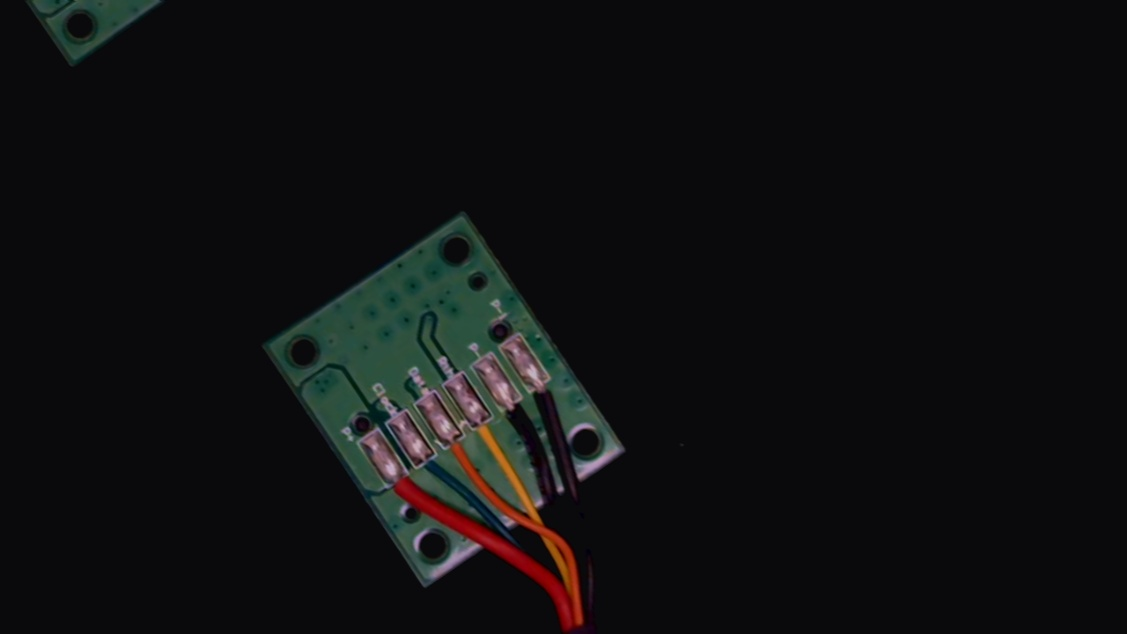Black: (490, 383, 543, 441)
Black1: (520, 364, 571, 423)
Green: (404, 440, 457, 498)
Orange: (433, 422, 489, 486)
Red: (377, 457, 433, 521)
Yellow: (463, 403, 517, 464)
